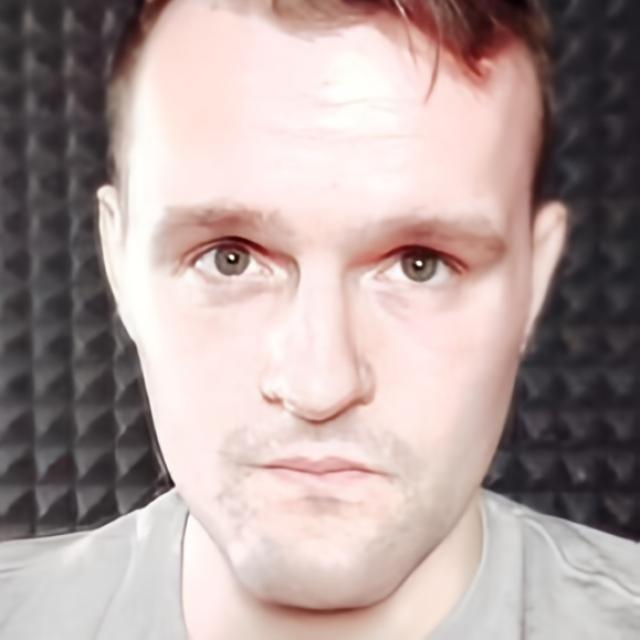neutral: (123, 38, 530, 602)
